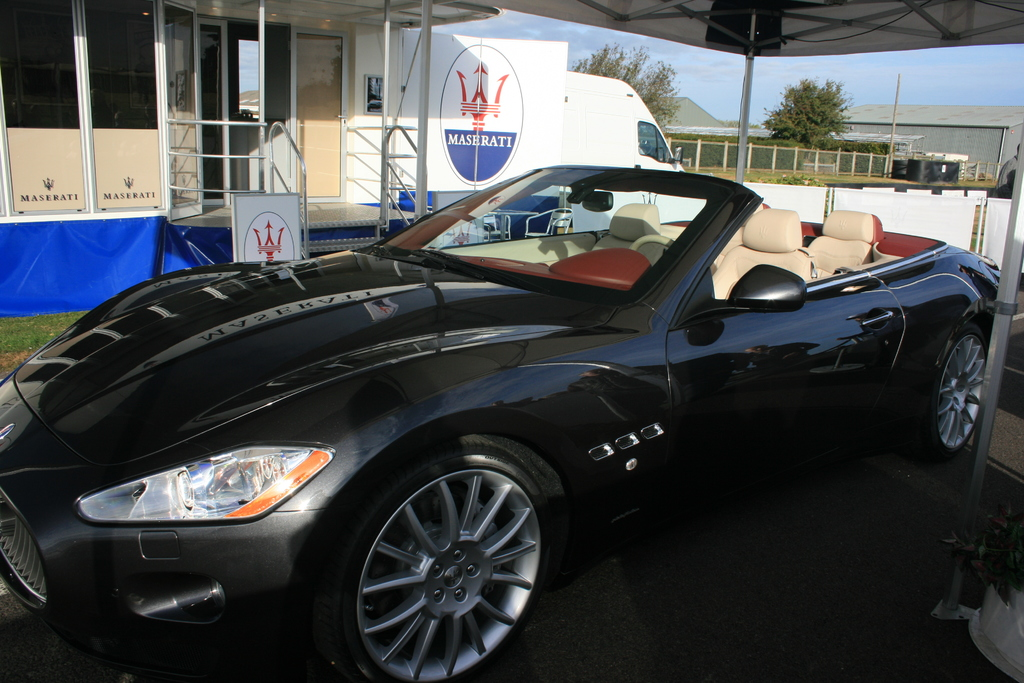cars: (17, 143, 981, 678)
